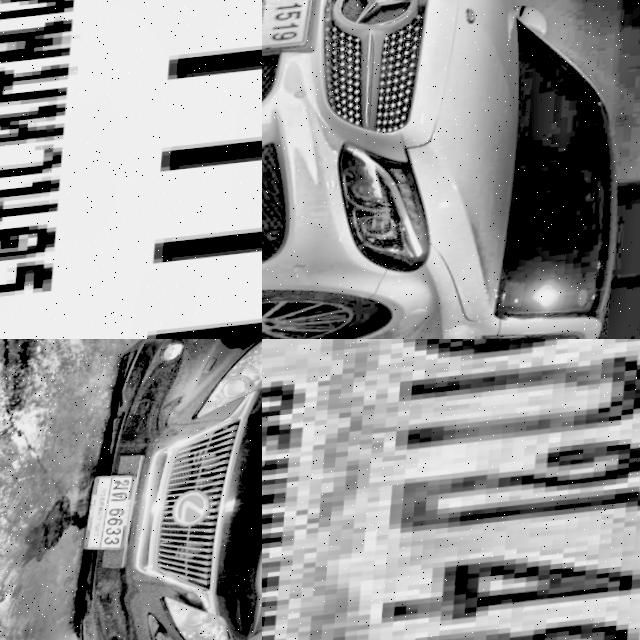license-plate: (262, 339, 640, 640), (0, 0, 262, 339), (87, 477, 148, 559), (262, 0, 329, 54)
